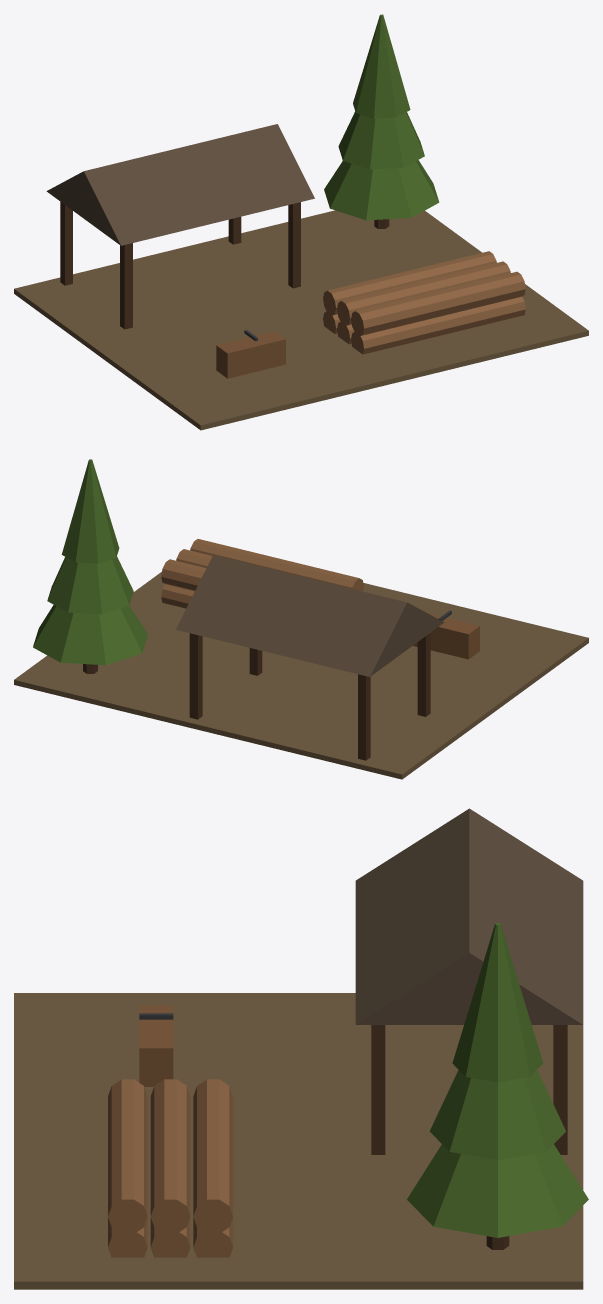
The model's file is lumber.glb.
3 views of the same model, one above another, from view 1: azimuth 30°, elevation 25°; view 2: azimuth 150°, elevation 25°; view 3: azimuth 270°, elevation 25° (orthographic). The views are drawn at different scales.
Parts seen in each view (by area): view 1: Lumber; view 2: Lumber; view 3: Lumber.
Part boxes in pixels (x1,y1,x2,y2): Lumber: (14, 14, 588, 430); Lumber: (14, 459, 588, 779); Lumber: (14, 808, 588, 1289).
Size of the model in its own units: 12.1 by 6.39 by 10.1.
